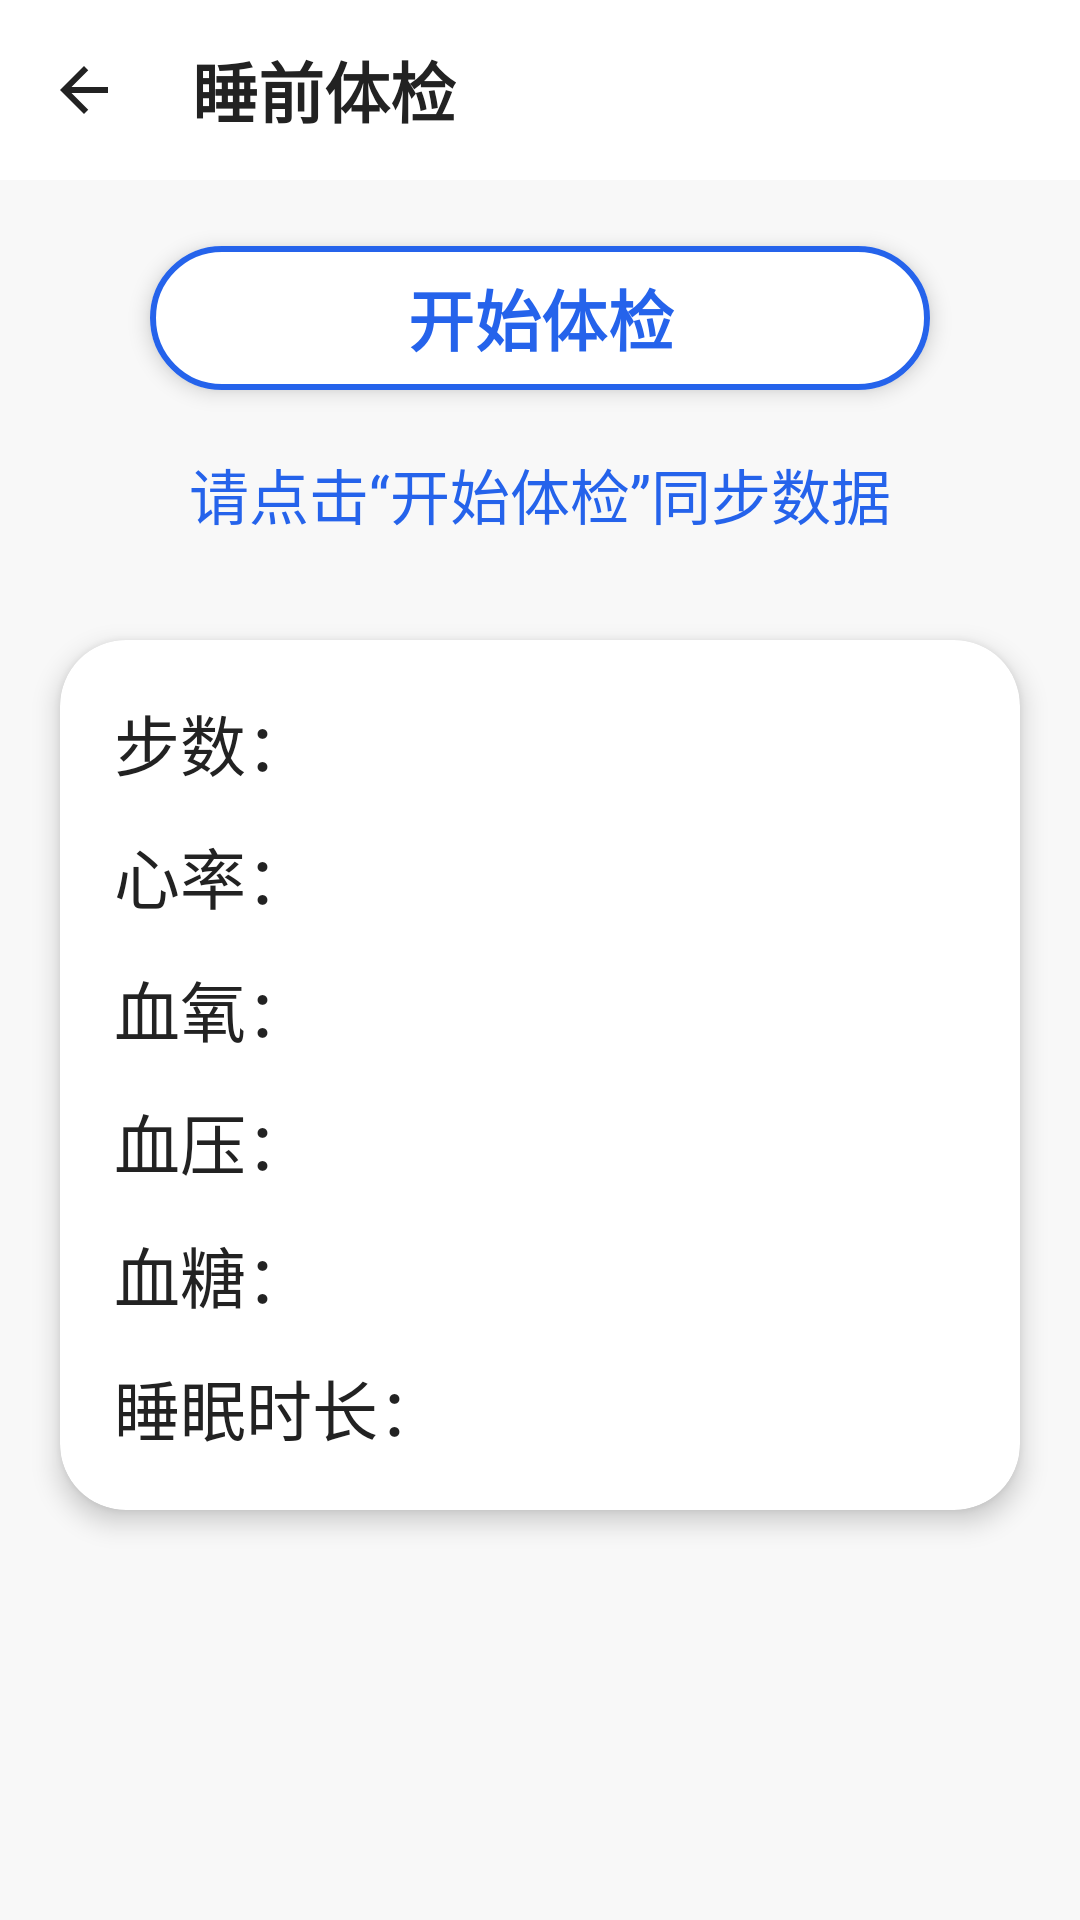

Where to tap for icons on this 1080w x 1920h app screen, as (x,y):
返回: (84,90)
